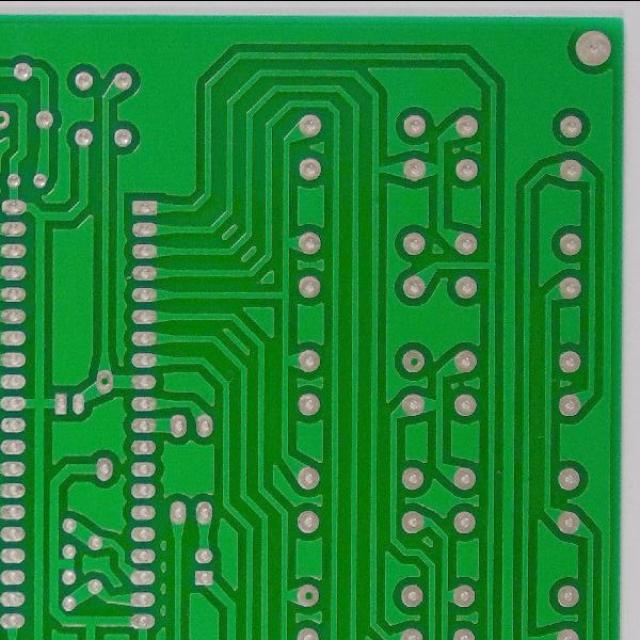Missing_Hole: (294, 581, 321, 609), (399, 348, 427, 373), (94, 368, 116, 395), (0, 109, 12, 131)
